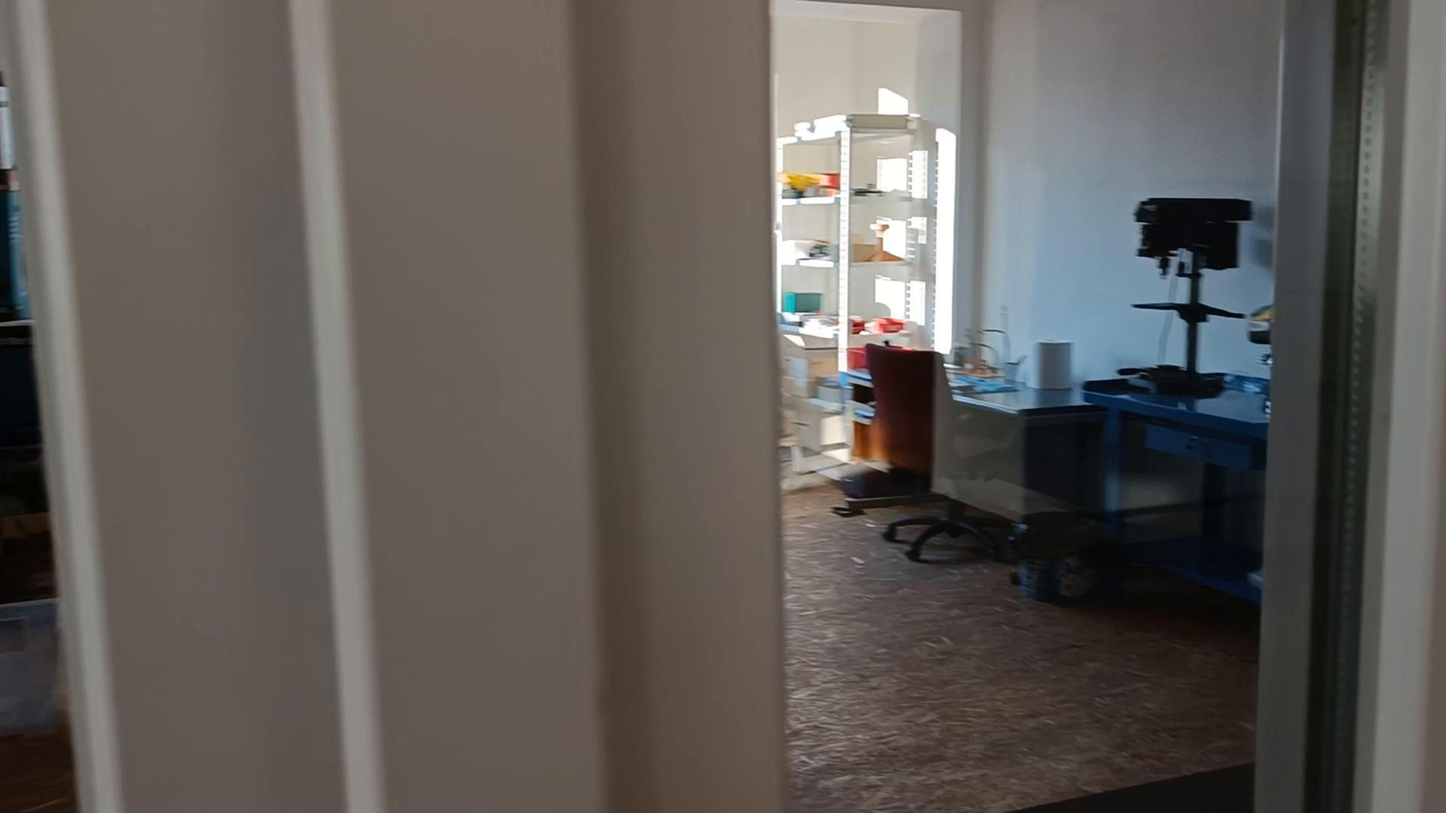floor: (785, 486, 1256, 812)
